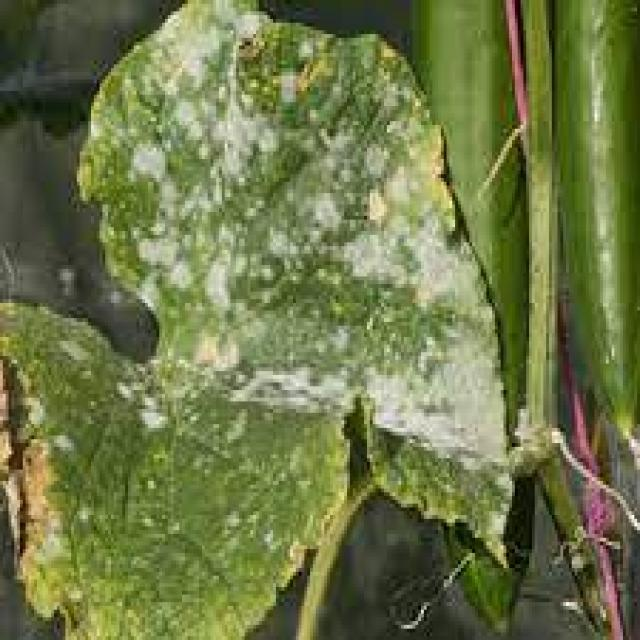powdery-mildew: (149, 30, 493, 458)
